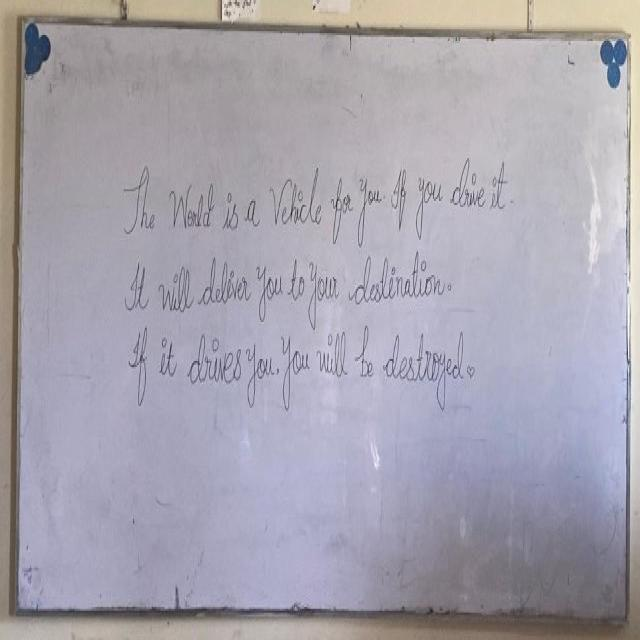White-board: (19, 17, 627, 623)
